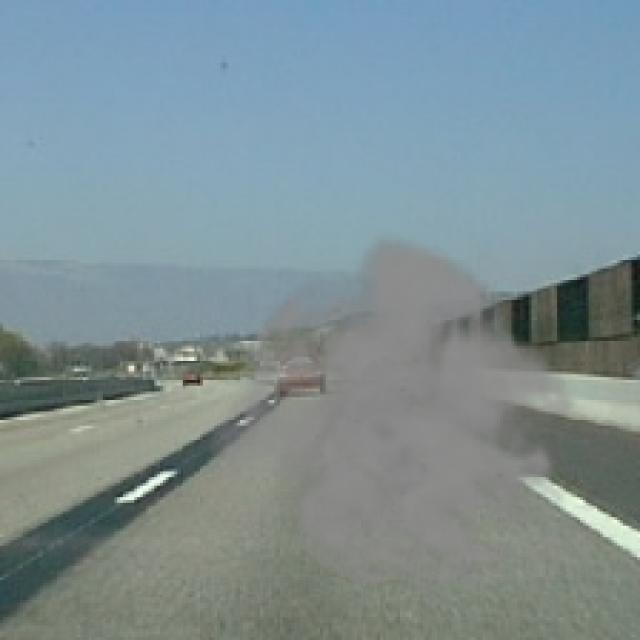smoke: (203, 232, 591, 612)
